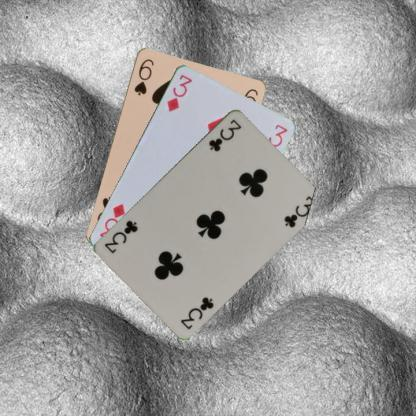3c: (177, 294, 215, 330), (206, 116, 242, 153)
3d: (164, 72, 194, 112)
6s: (131, 56, 155, 96)
